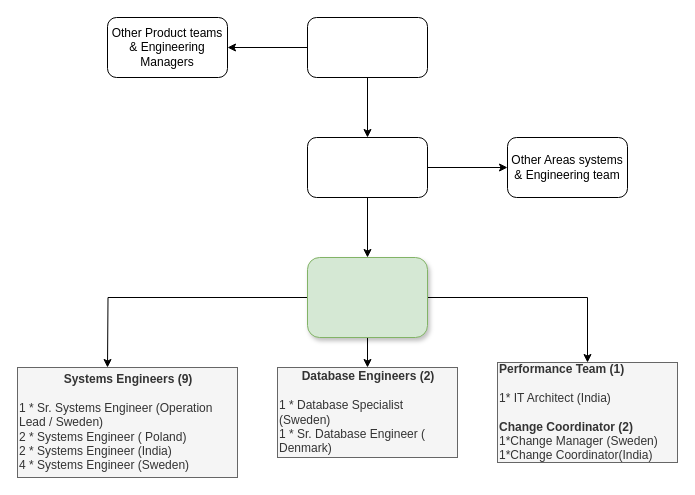
Some shapes in this 695 by 495 pixel diagram are drawn without their labels. The shapes that lost their labels are listed below. From the top down, each one's centre as x and y in pixels, then its label:
the point at 367,47: Product Engineering Manager
the point at 367,167: Head of Systems Engineering
the point at 368,298: Systems Engineering Manager Kamal Sastry Total Resources(14)
